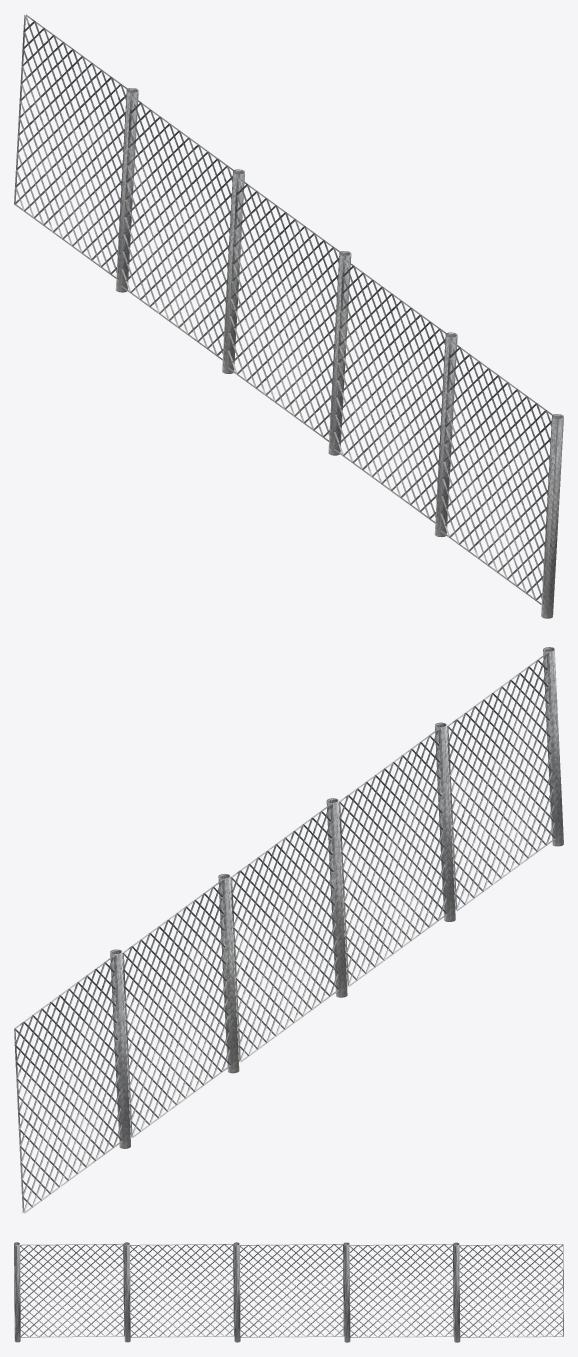
Rendered from fence3.obj.
3 renders of one model, top to bottom at view 1: azimuth 30°, elevation 25°; view 2: azimuth 150°, elevation 25°; view 3: azimuth 270°, elevation 25°, orthographic. The views are drawn at different scales.
Visible parts, largest first — view 1: Plane.007_Plane.009; view 2: Plane.007_Plane.009; view 3: Plane.007_Plane.009.
Part boxes in pixels (<box>): Plane.007_Plane.009: <box>14,14,563,618</box>; Plane.007_Plane.009: <box>14,647,563,1213</box>; Plane.007_Plane.009: <box>14,1242,563,1342</box>.
Bounding box in the file's own units: 0.9603 × 5.96 × 29.04.
1 material, 1 textured.
